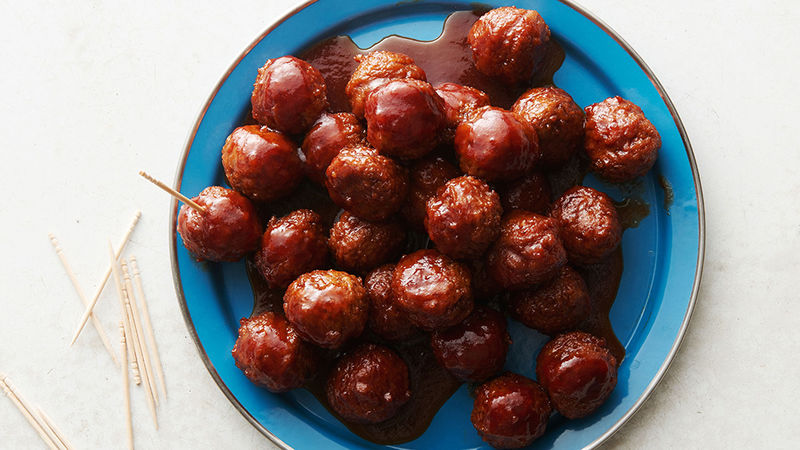meatballs: (464, 7, 569, 91), (320, 139, 411, 226), (229, 311, 323, 395), (420, 175, 506, 266), (220, 115, 303, 207), (327, 346, 419, 427), (451, 103, 543, 182), (582, 96, 667, 175), (537, 332, 619, 413), (181, 191, 264, 271), (391, 248, 474, 326), (490, 209, 567, 291), (289, 271, 370, 346), (514, 81, 585, 161), (256, 210, 335, 280), (365, 84, 443, 150), (476, 379, 548, 450), (256, 62, 325, 135), (555, 186, 625, 257), (341, 53, 430, 102)
